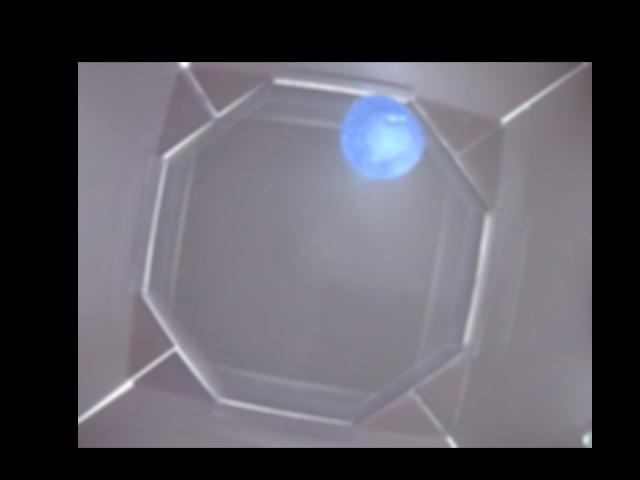Potato: (343, 95, 424, 181)
